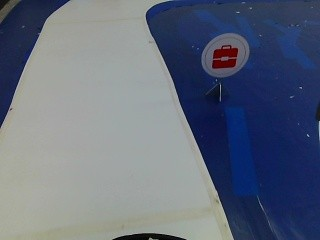company: (203, 31, 247, 76)
